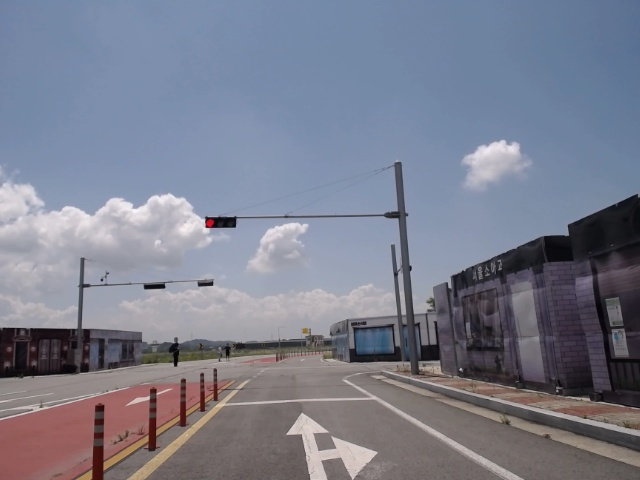red_3: (204, 217, 239, 229)
